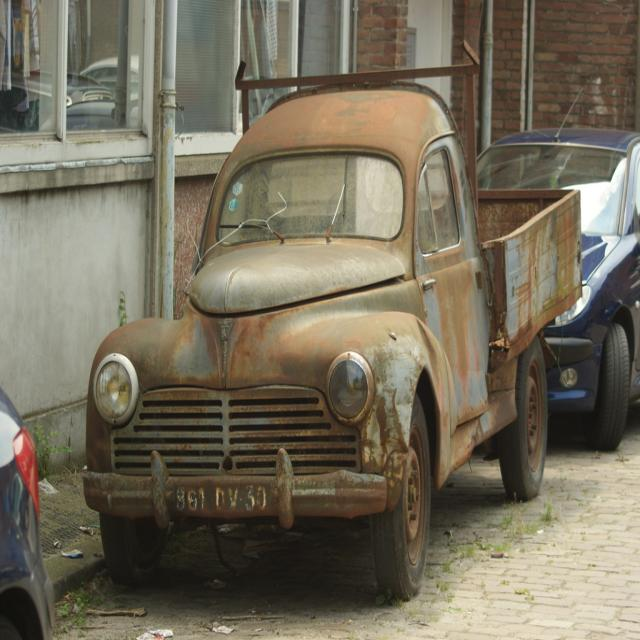car: (78, 80, 622, 612)
